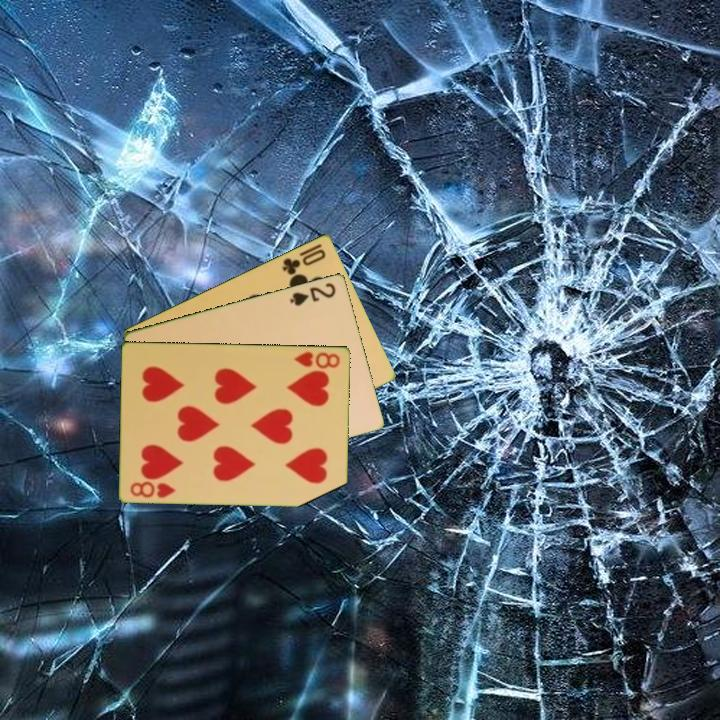10c: (279, 240, 329, 278)
2s: (286, 279, 339, 309)
8h: (127, 477, 178, 501), (291, 348, 343, 371)
